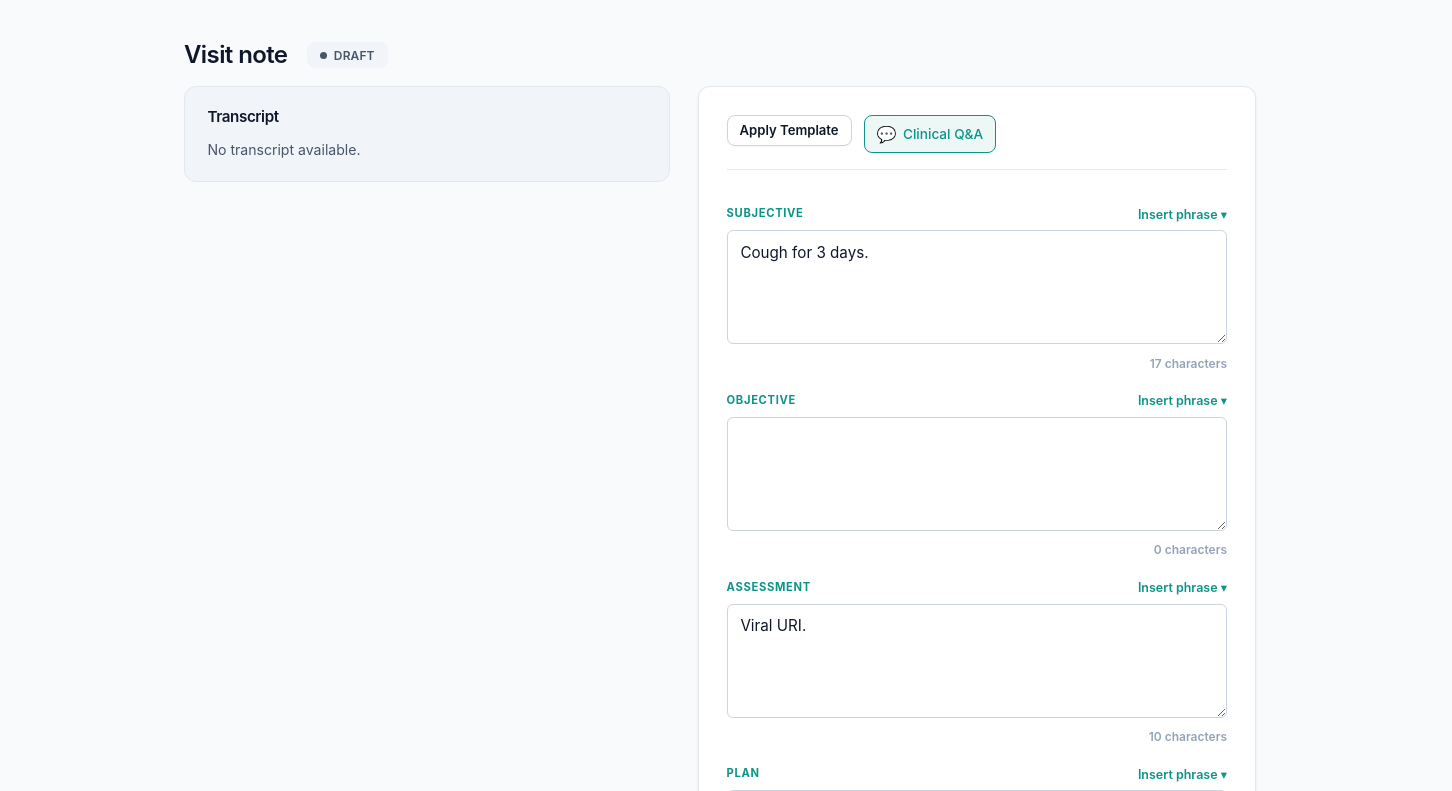
it: NoteReview › inserts a saved phrase from the template menu
Expected: the text box showing "Cough for 3 days." below "subjective" is shown, [727, 230, 1227, 344]
Step 1. Click the button "Insert phrase ▾" in the row of "plan" → (1182, 774), box [1138, 767, 1227, 782]
(page scrolled)
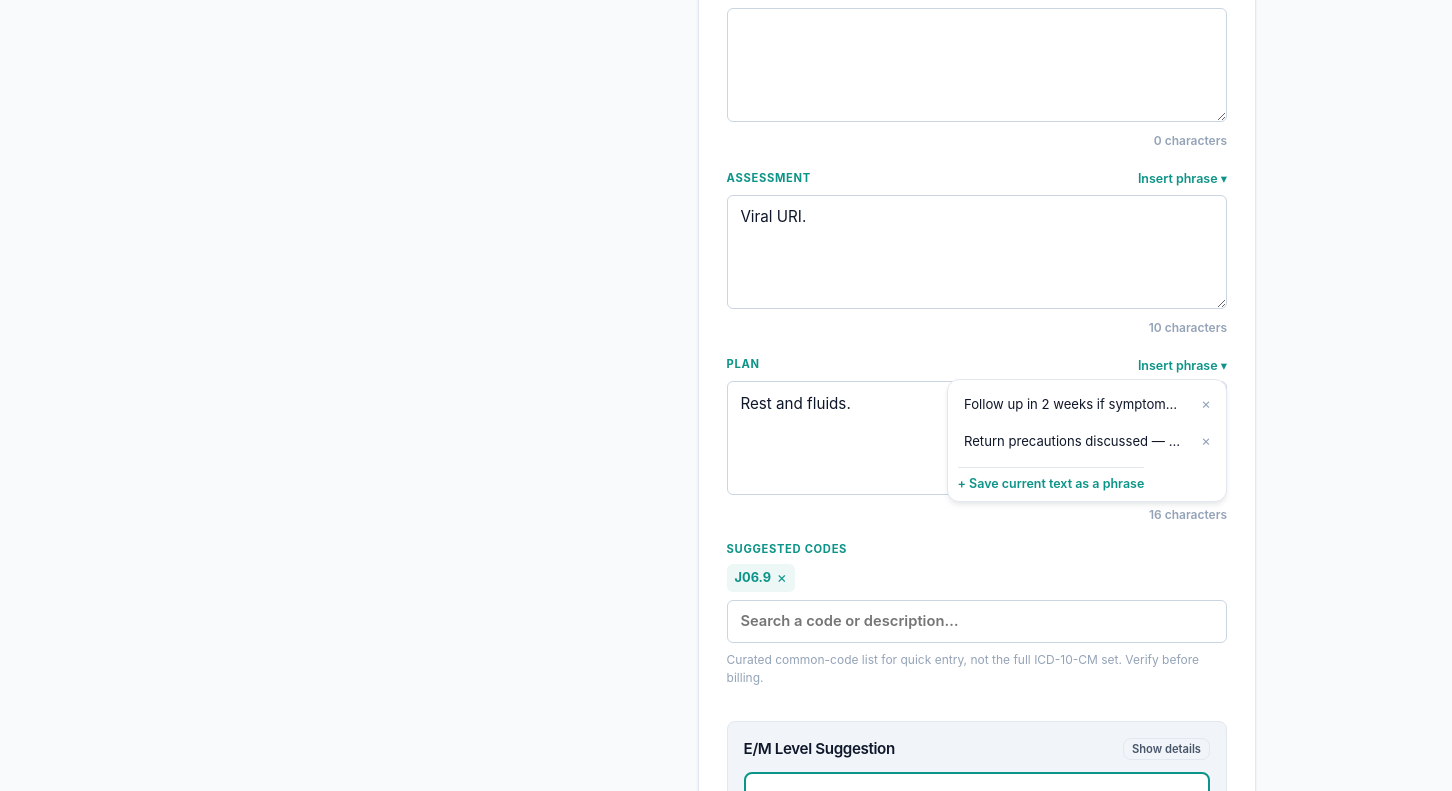
Step 2. Click the button "Follow up in 2 weeks if symptoms persist." → (1073, 405), box [958, 390, 1189, 420]
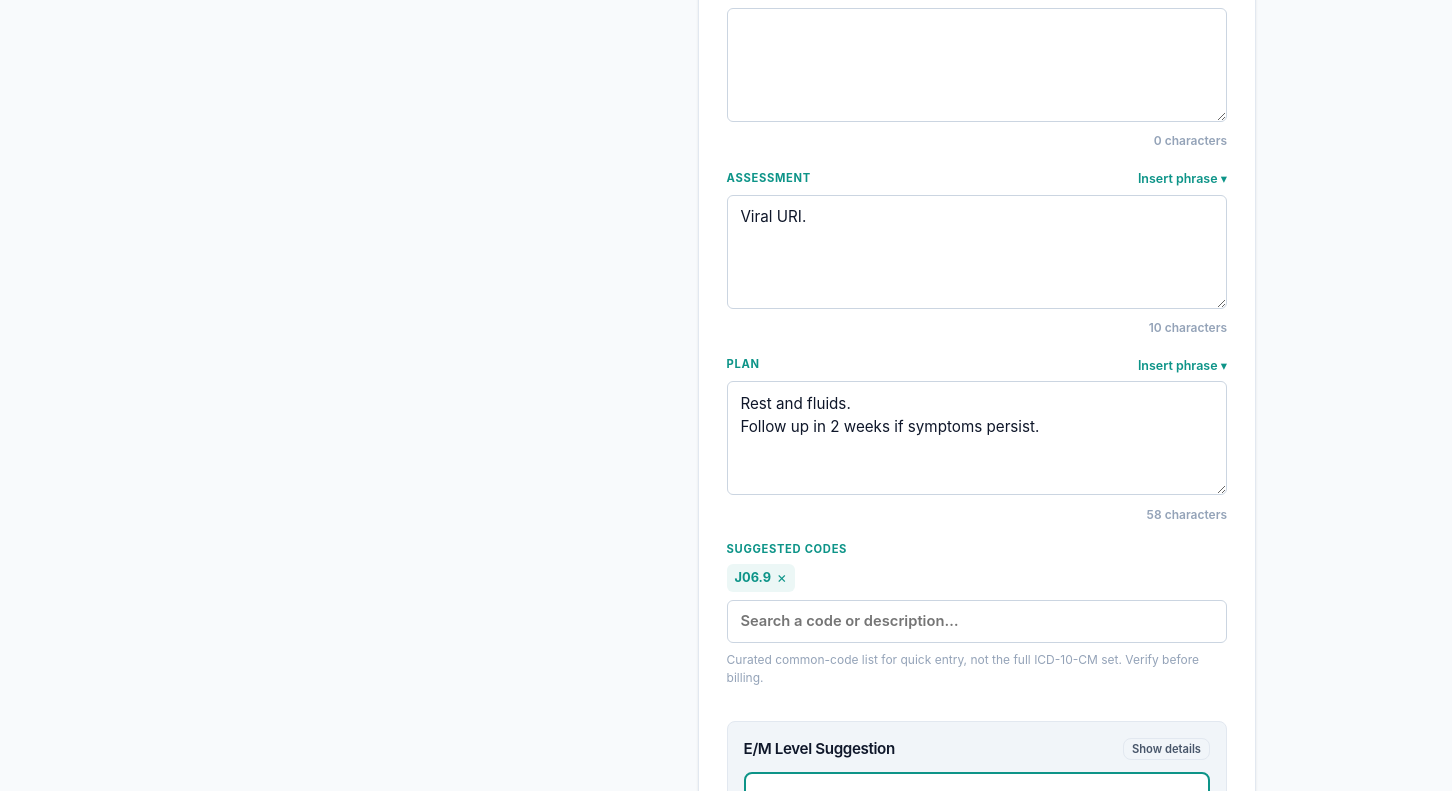
Expected: the text box below "plan" is shown, [727, 381, 1227, 495]
